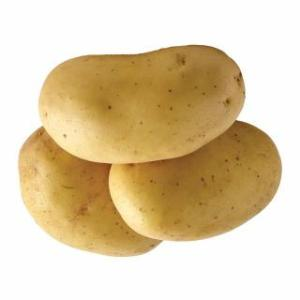potato: (38, 45, 246, 164), (109, 120, 281, 242), (19, 127, 164, 256)
